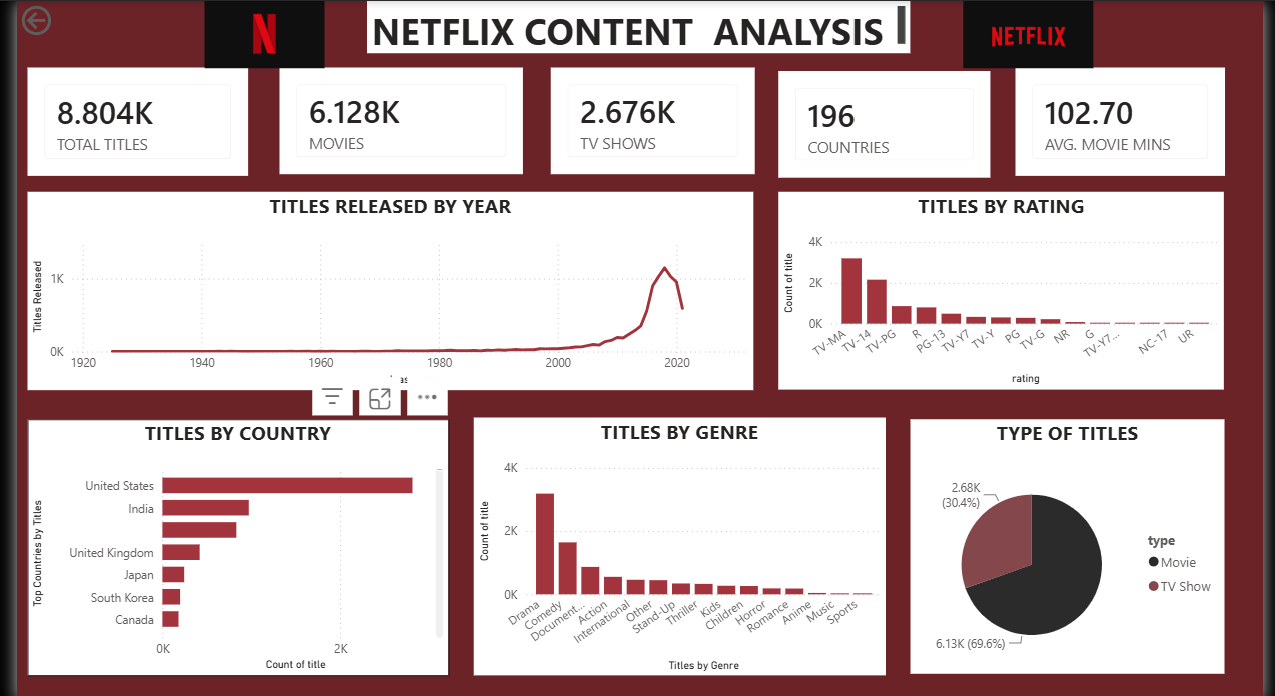

Layout of this report page (visuals, bound fields, positions):
{"tool":"powerbi","page":{"name":"Page 1","canvas":[1280,720],"ordinal":0},"visuals":[{"type":"textbox","box":[359.6,0,557.7,53.8],"z":0},{"type":"cardVisual","fields":{"Data":["CountNonNull(Netflix-Content-Analysis  - netflix_titles.title)"]},"box":[11.5,69.2,226.9,111.5],"z":1000},{"type":"cardVisual","fields":{"Data":["CountNonNull(Netflix-Content-Analysis  - netflix_titles.title)"]},"box":[269.2,69.2,250,109.6],"z":2000},{"type":"cardVisual","fields":{"Data":["CountNonNull(Netflix-Content-Analysis  - netflix_titles.title)"]},"box":[548.1,69.2,209.6,109.6],"z":3000},{"type":"cardVisual","fields":{"Data":["Count(Country table.country)"]},"box":[782.7,71.2,217.3,109.6],"z":4000},{"type":"cardVisual","fields":{"Data":["Avg(Netflix-Content-Analysis  - netflix_titles.Movie mins )"]},"box":[1025,69.2,215.4,111.5],"z":5000},{"type":"actionButton","box":[0,0,100,40],"z":6000},{"type":"lineChart","title":"TITLES RELEASED BY YEAR","fields":{"Category":["Netflix-Content-Analysis  - netflix_titles.release_year"],"Y":["CountNonNull(Netflix-Content-Analysis  - netflix_titles.title)"]},"box":[11.5,196.2,746.2,203.8],"z":7000},{"type":"pieChart","title":"TYPE OF TITLES","fields":{"Category":["Netflix-Content-Analysis  - netflix_titles.type"],"Y":["CountNonNull(Netflix-Content-Analysis  - netflix_titles.title)"]},"box":[917.3,430.8,323.1,261.5],"z":8000},{"type":"clusteredBarChart","title":"TITLES BY COUNTRY","fields":{"Category":["Netflix-Content-Analysis  - netflix_titles.country"],"Y":["CountNonNull(Netflix-Content-Analysis  - netflix_titles.title)"]},"box":[11.5,430.8,432.7,263.5],"z":9000},{"type":"columnChart","title":"TITLES BY GENRE","fields":{"Y":["CountNonNull(Netflix-Content-Analysis  - netflix_titles.title)"],"Category":["Netflix-Content-Analysis  - netflix_titles.Genre Group"]},"box":[469.2,428.8,423.1,265.4],"z":10000},{"type":"clusteredColumnChart","title":"TITLES BY RATING","fields":{"Y":["CountNonNull(Netflix-Content-Analysis  - netflix_titles.title)"],"Category":["Netflix-Content-Analysis  - netflix_titles.rating"]},"box":[783.2,196.9,457.2,203.2],"z":11000},{"type":"image","box":[100,0,307.7,69.2],"z":12000},{"type":"image","box":[917.3,0,242.3,69.2],"z":13000}]}

Visuals, with their boxes in screenshot pixels (x1, y1, x2, y2):
textbox: 353 0 905 47
cardVisual - CountNonNull(Netflix-Content-Analysis  - netflix_titles.title): 8 62 233 172
cardVisual - CountNonNull(Netflix-Content-Analysis  - netflix_titles.title): 263 62 511 170
cardVisual - CountNonNull(Netflix-Content-Analysis  - netflix_titles.title): 539 62 747 170
cardVisual - Count(Country table.country): 772 64 987 172
cardVisual - Avg(Netflix-Content-Analysis  - netflix_titles.Movie mins ): 1012 62 1225 172
actionButton: 0 0 96 33
"TITLES RELEASED BY YEAR" lineChart: 8 188 747 389
"TYPE OF TITLES" pieChart: 905 420 1225 679
"TITLES BY COUNTRY" clusteredBarChart: 8 420 437 681
"TITLES BY GENRE" columnChart: 461 418 880 681
"TITLES BY RATING" clusteredColumnChart: 772 188 1225 390
image: 96 0 400 62
image: 905 0 1145 62
